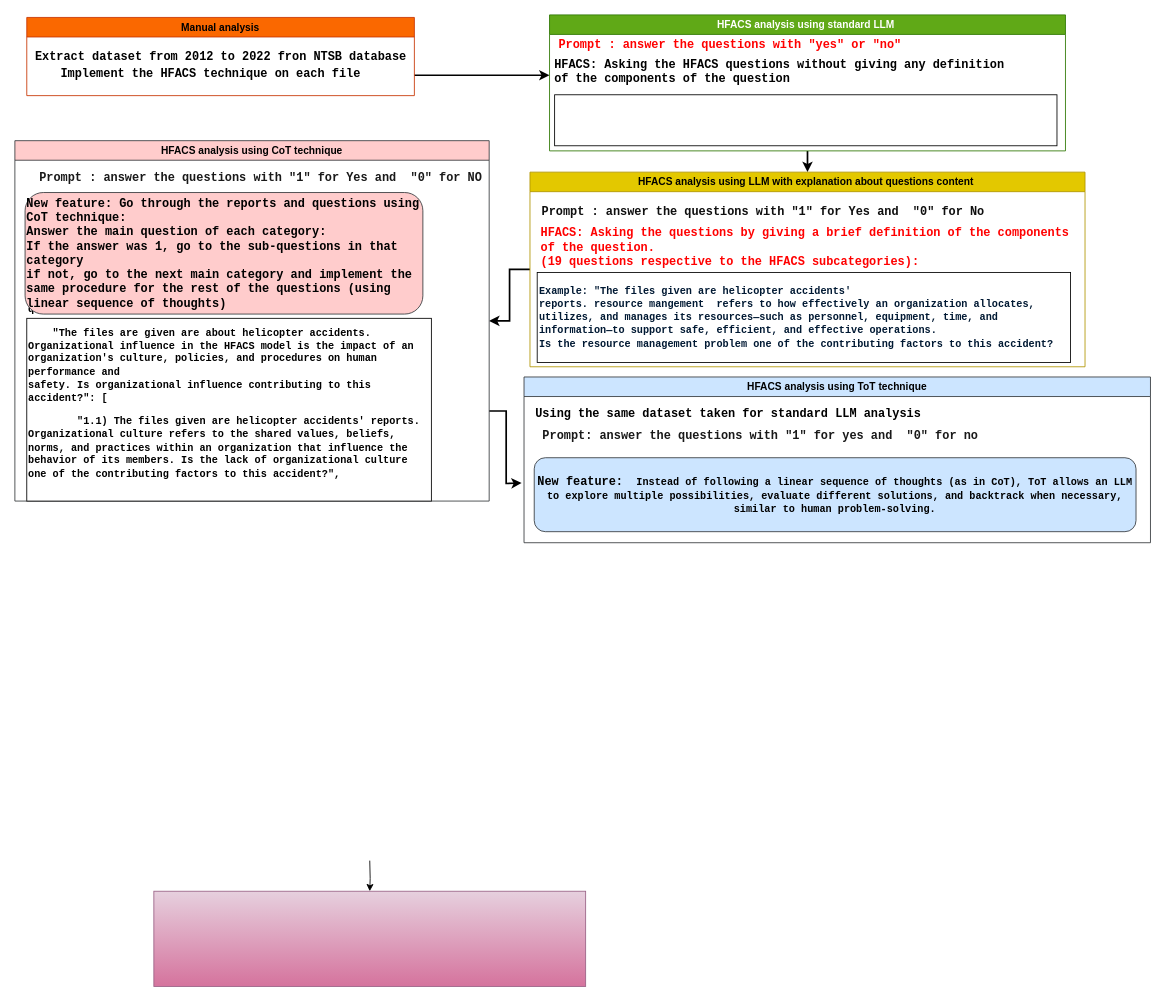
Image size: 1165x1001. Some labels were removed from this diagram. Each missing label, with the centre of its shape:
Example: "Is routine violation one of the contributing factors to this accident?: (x=805, y=120)
Find the best technique with the best performance after "prompt engineering": (x=369, y=938)
